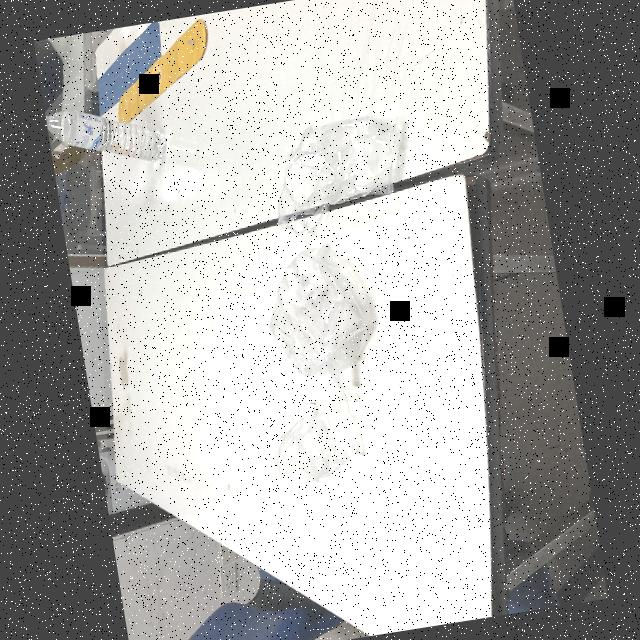plastic_bag: (242, 102, 427, 245), (248, 232, 389, 408)
scrap_plastic: (254, 386, 375, 503)
